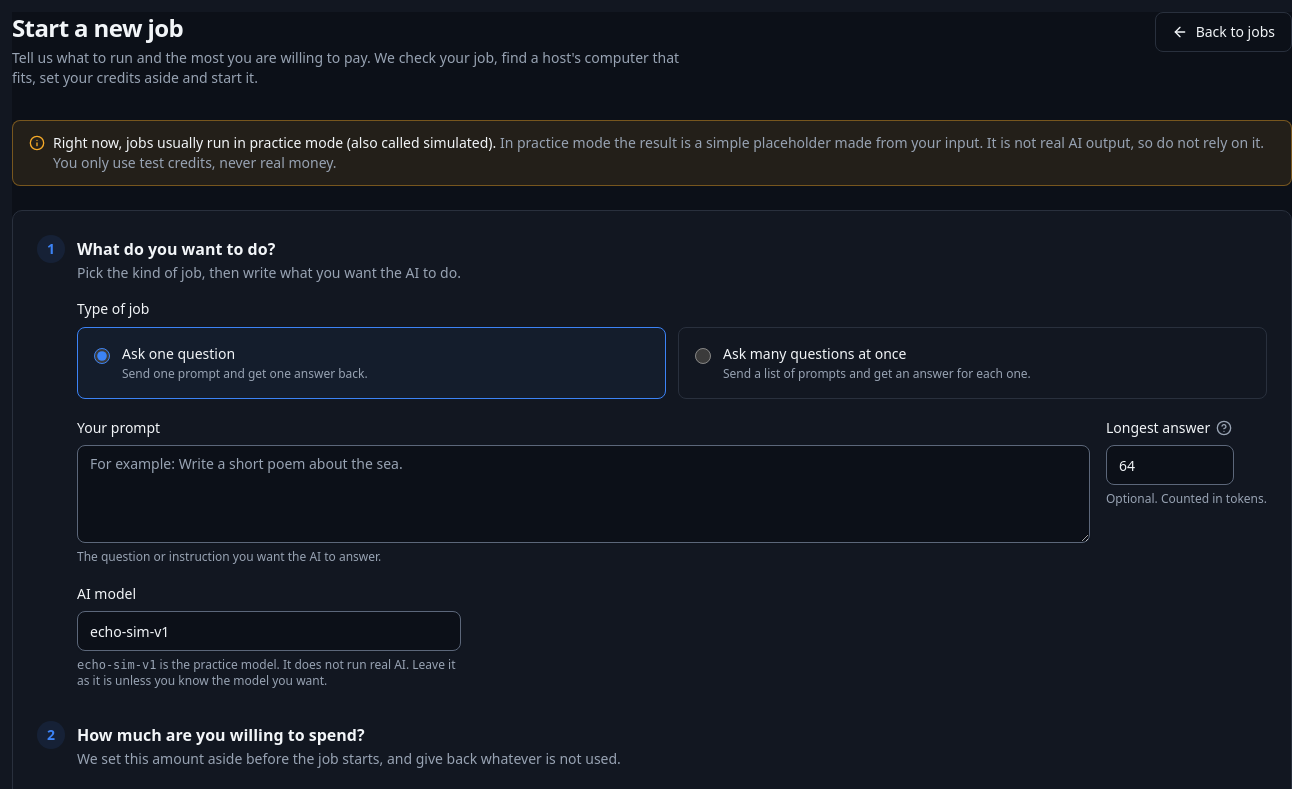
Test: Start a new job page › offers the job type as two clear choices, one prompt or a list, and switches the editor
The width and height of the screenshot is (1292, 789).
Expected: the radio button labelled "Ask one question Send one prompt and get one answer back." is checked, x1=94 y1=348 x2=110 y2=364
Expected: the text box labelled "Your prompt" is shown, x1=77 y1=445 x2=1090 y2=543
Step 1. Click the radio button labelled "Ask many questions at once" → [703, 356], box x1=695 y1=348 x2=711 y2=364
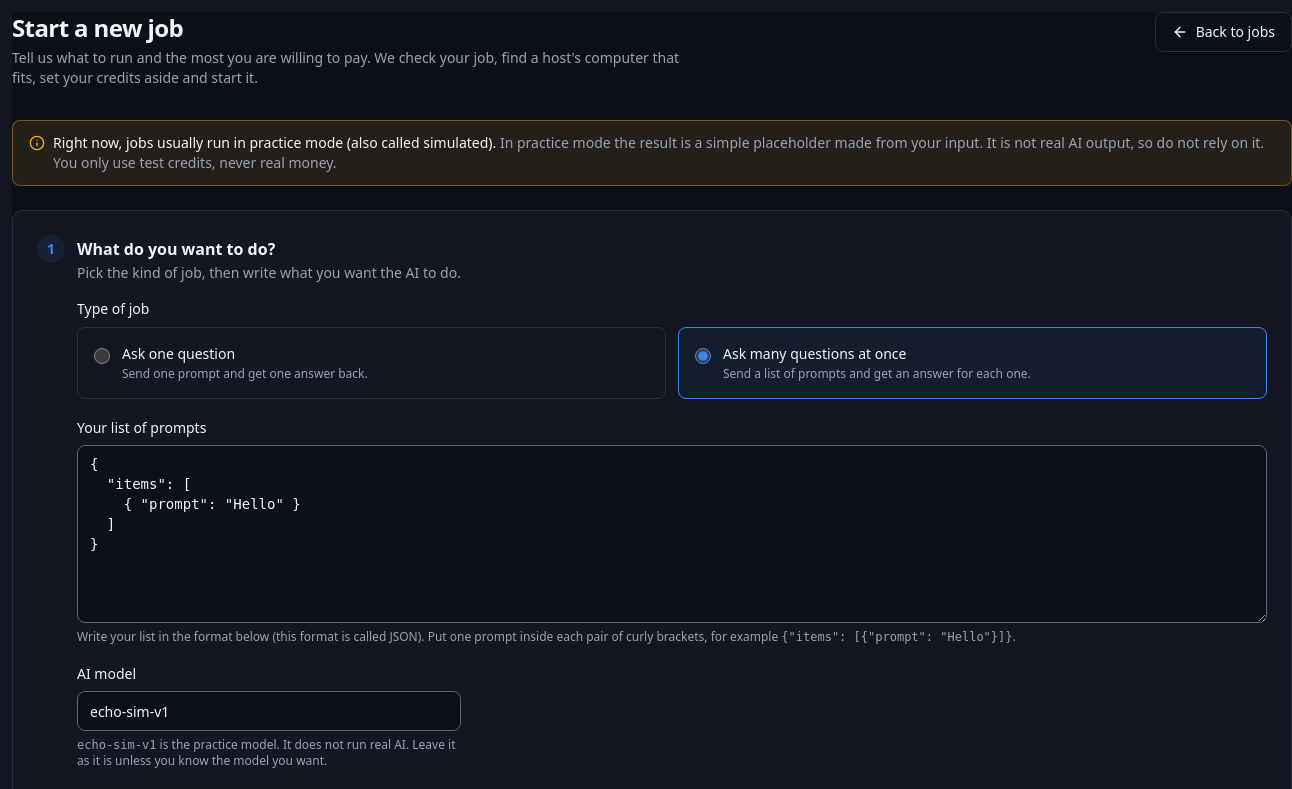
Result: the radio button labelled "Ask many questions at once" is checked at x1=695 y1=348 x2=711 y2=364
Result: the text box with id "items_json" is shown at x1=77 y1=445 x2=1267 y2=623
Result: the label is gone
